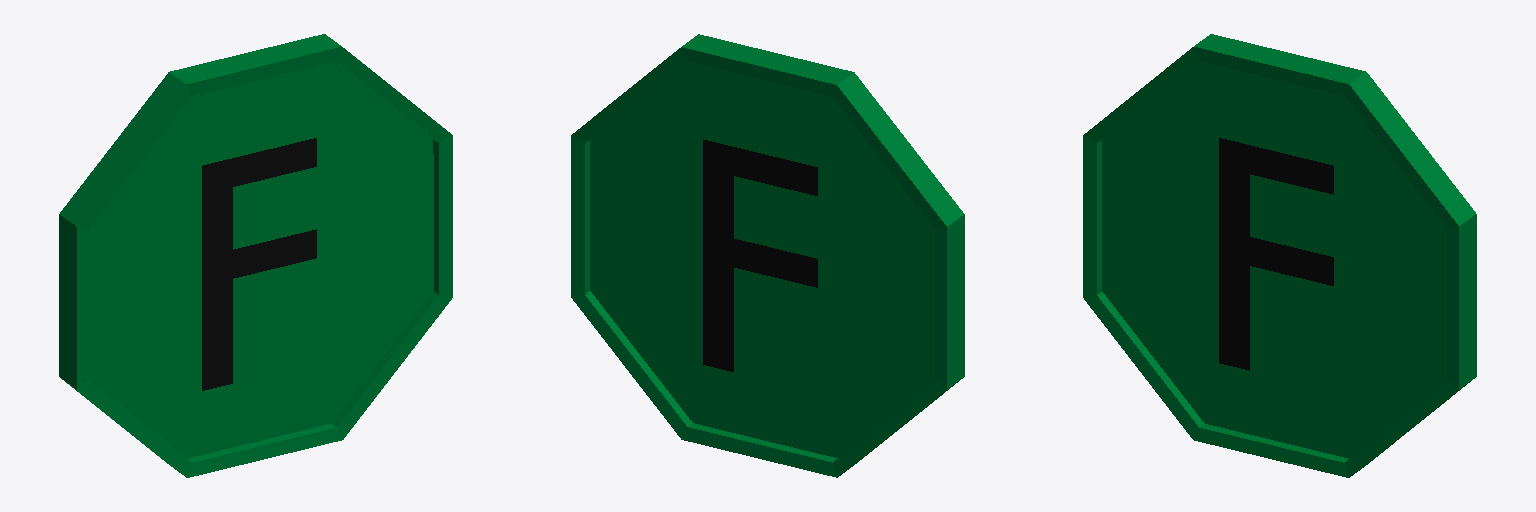
The model's file is foodCoin.obj.
3 views of the same model, side by side, from view 1: azimuth 30°, elevation 25°; view 2: azimuth 150°, elevation 25°; view 3: azimuth 330°, elevation 25° (orthographic).
Visible parts, largest first — view 1: coin_crow, Text; view 2: coin_crow, Text.001; view 3: coin_crow, Text.
Boxes of the visible parts, x1,y1,x2,y2 form: coin_crow: [59, 34, 452, 477]; Text: [202, 138, 316, 390]; coin_crow: [571, 34, 964, 477]; Text.001: [703, 139, 817, 371]; coin_crow: [1083, 34, 1476, 477]; Text: [1219, 138, 1333, 370].
Bounding box in the file's own units: 1.19 × 1.19 × 0.0991.